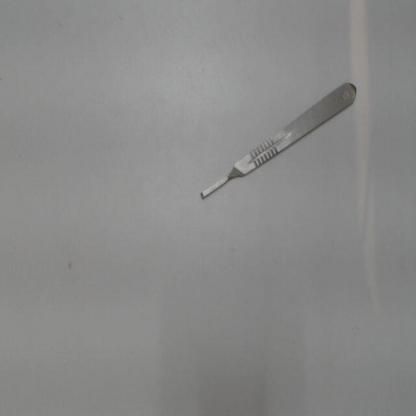No.4 BP Handle: (189, 68, 366, 216)
